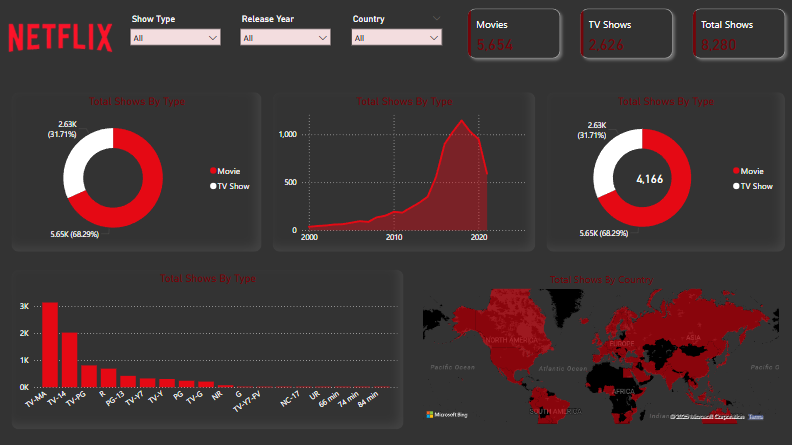

This screenshot's page, from the dashboard's own definition file:
{"tool":"powerbi","page":{"name":"Page 1","canvas":[1280,720],"ordinal":0},"visuals":[{"type":"cardVisual","fields":{"Data":["Measure_.Movies","Measure_.TV Shows","Measure_.Total Shows"]},"box":[737.1,0,542.9,114.3],"z":1000},{"type":"donutChart","title":"Total Shows By Type","fields":{"Category":["netflix_titles.type"],"Y":["CountNonNull(netflix_titles.show_id)"]},"box":[24.3,150,401.4,257.1],"z":2000},{"type":"areaChart","title":"Total Shows By Type","fields":{"Category":["netflix_titles.release_year"],"Y":["CountNonNull(netflix_titles.show_id)"]},"box":[442.1,150,421.4,257.1],"z":3000},{"type":"donutChart","title":"Total Shows By Type","fields":{"Category":["netflix_titles.type"],"Y":["CountNonNull(netflix_titles.director_new)"]},"box":[880,150,382.9,257.1],"z":4000},{"type":"card","fields":{"Values":["Measure_.Total Director"]},"box":[1008.6,267.1,75.7,44.3],"z":5000},{"type":"columnChart","title":"Total Shows By Type","fields":{"Y":["CountNonNull(netflix_titles.show_id)"],"Category":["netflix_titles.rating"]},"box":[24.3,434.3,628.6,257.1],"z":6000},{"type":"filledMap","title":"Total Shows By Country","fields":{"Category":["netflix_titles.country_new"]},"box":[674.3,434.3,588.6,257.1],"z":7000},{"type":"slicer","fields":{"Values":["netflix_titles.type"]},"box":[204.3,20,165.7,107.1],"z":8000},{"type":"slicer","fields":{"Values":["netflix_titles.release_year"]},"box":[380.7,20,165.7,107.1],"z":9000},{"type":"slicer","fields":{"Values":["netflix_titles.country_new"]},"box":[557.1,20,165.7,107.1],"z":10000},{"type":"image","box":[0,0,204.3,127.1],"z":11000}]}

Visuals, with their boxes in screenshot pixels (x1, y1, x2, y2), scaled from the page's 1280x720 canvas onto the 792x445 screenshot:
cardVisual - Measure_.Movies x Measure_.TV Shows: (x1=456, y1=0, x2=791, y2=71)
"Total Shows By Type" donutChart: (x1=15, y1=93, x2=263, y2=252)
"Total Shows By Type" areaChart: (x1=274, y1=93, x2=534, y2=252)
"Total Shows By Type" donutChart: (x1=544, y1=93, x2=781, y2=252)
card - Measure_.Total Director: (x1=624, y1=165, x2=671, y2=192)
"Total Shows By Type" columnChart: (x1=15, y1=268, x2=404, y2=427)
"Total Shows By Country" filledMap: (x1=417, y1=268, x2=781, y2=427)
slicer - netflix_titles.type: (x1=126, y1=12, x2=229, y2=79)
slicer - netflix_titles.release_year: (x1=236, y1=12, x2=338, y2=79)
slicer - netflix_titles.country_new: (x1=345, y1=12, x2=447, y2=79)
image: (x1=0, y1=0, x2=126, y2=79)
